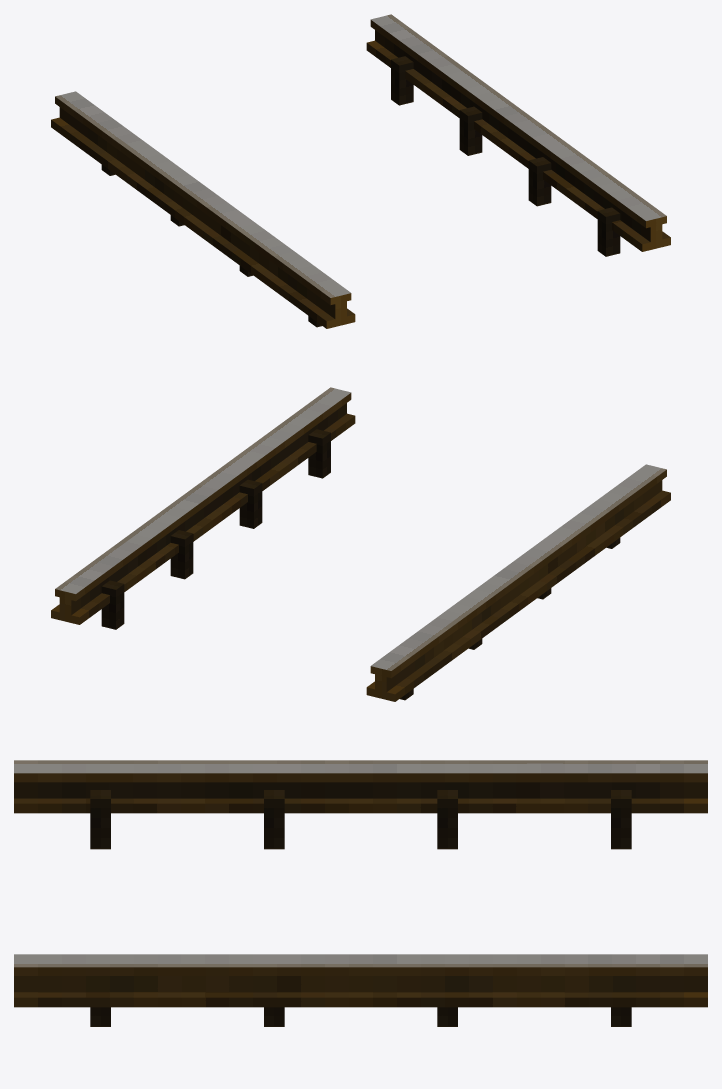
The model's file is track_embedded.obj.
The picture shows the model from 3 angles, top to bottom: view 1: azimuth 30°, elevation 25°; view 2: azimuth 150°, elevation 25°; view 3: azimuth 270°, elevation 25°; orthographic projection. The views are drawn at different scales.
Visible parts, largest first — view 1: Track_normal; view 2: Track_normal; view 3: Track_normal.
Boxes of the visible parts, x1=… form: Track_normal: x1=51, y1=14, x2=670, y2=328; Track_normal: x1=51, y1=387, x2=670, y2=701; Track_normal: x1=14, y1=760, x2=707, y2=1026.
Bounding box in the file's own units: 0.94 × 0.1158 × 1.
